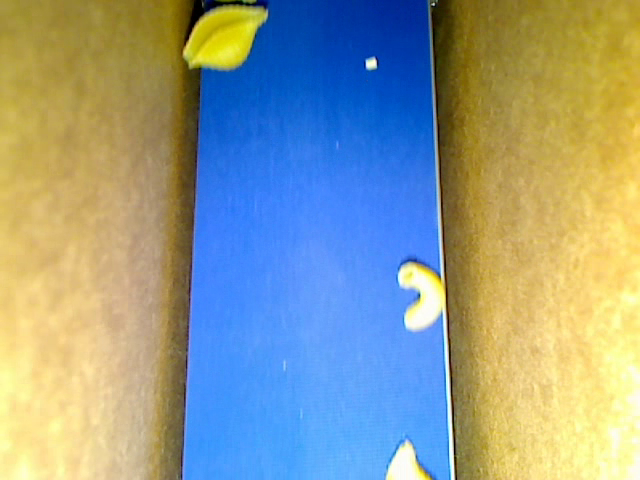elbow: (396, 259, 445, 332)
shell: (181, 4, 268, 72)
